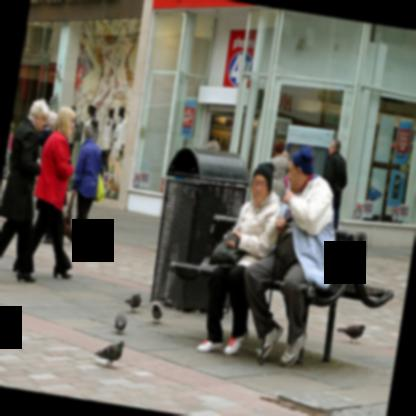handbag: (210, 239, 244, 265), (62, 191, 74, 234), (93, 173, 103, 202)
